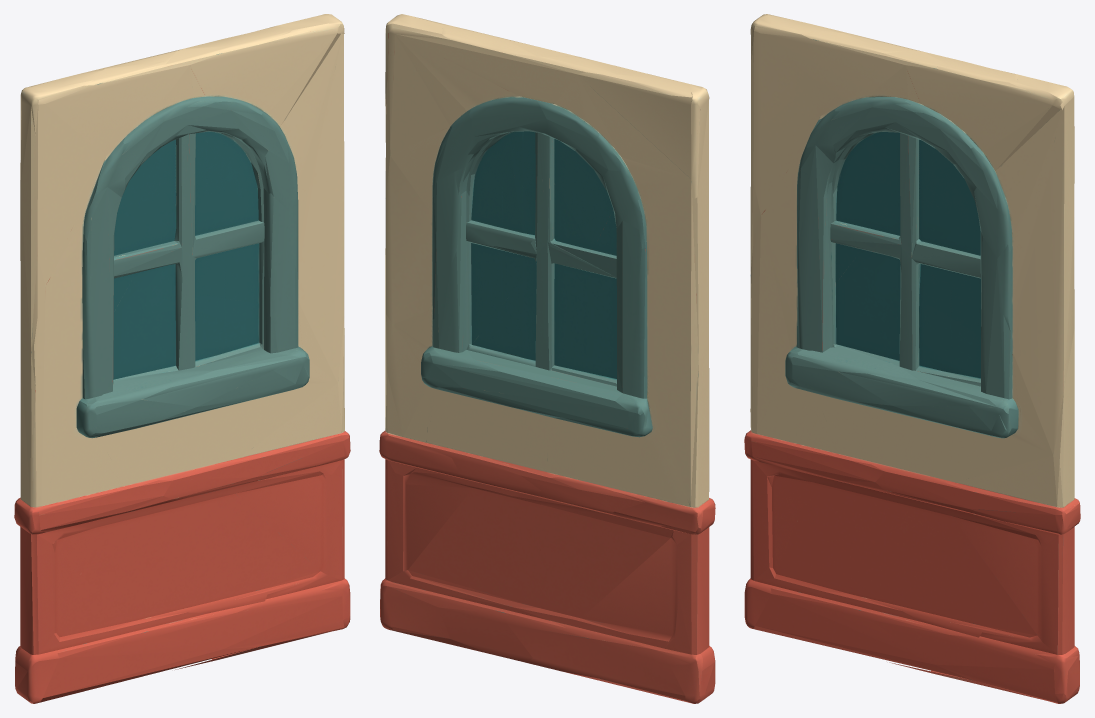
File: restaurant-arched-window-wall.glb
3 renders of one model, left to right at view 1: azimuth 30°, elevation 25°; view 2: azimuth 150°, elevation 25°; view 3: azimuth 330°, elevation 25°, orthographic.
Visible parts, largest first — view 1: Mesh_0; view 2: Mesh_0; view 3: Mesh_0.
Part boxes in pixels (x1,y1,x2,y2): Mesh_0: (14,14,350,703); Mesh_0: (379,14,715,703); Mesh_0: (744,14,1080,703).
Size of the model in its own units: 1 by 1.8 by 0.18.
1 material, 1 textured.
